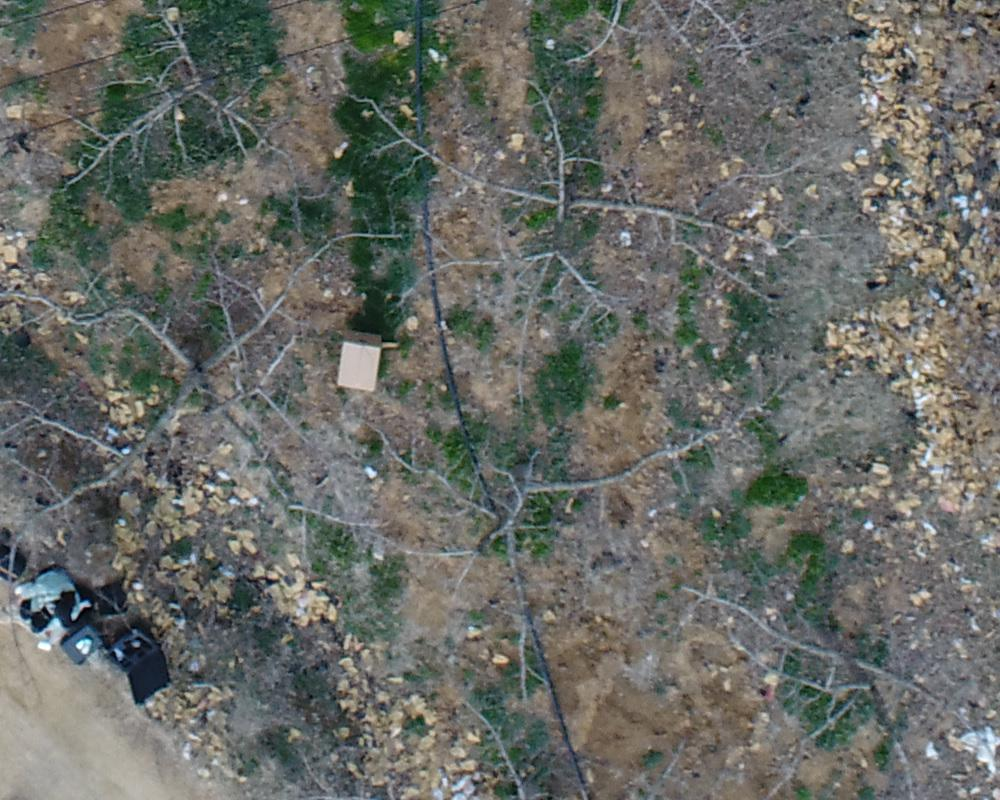apple: (331, 57, 793, 367), (10, 211, 370, 560), (329, 378, 767, 638), (29, 10, 301, 208)
